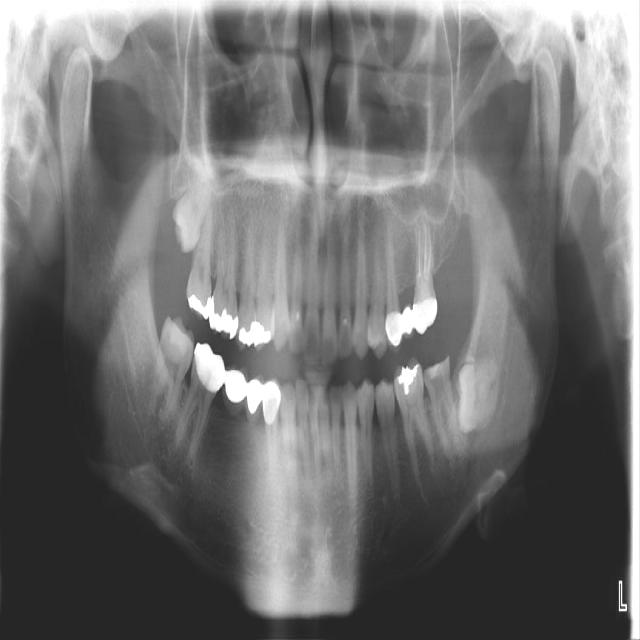Crown: (193, 341, 281, 426), (384, 296, 437, 347)
Filling: (187, 294, 239, 340), (168, 321, 193, 361), (238, 320, 271, 348), (397, 364, 419, 395), (425, 361, 446, 380), (285, 310, 301, 333), (343, 317, 347, 324)
Root Canal Treatment: (417, 227, 421, 278), (424, 222, 427, 275), (428, 224, 430, 271)
impacted tooth: (169, 143, 211, 251), (458, 354, 498, 435)
